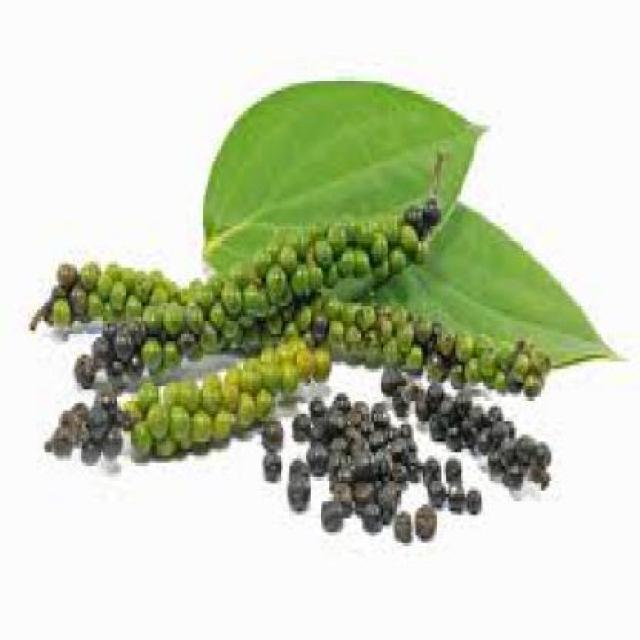UNRIPE: (48, 209, 435, 348)
